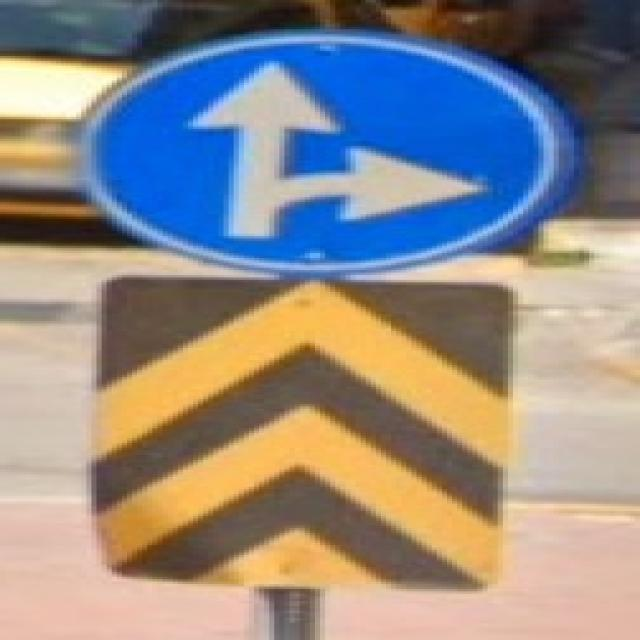Straight or Right: (80, 39, 547, 260)
